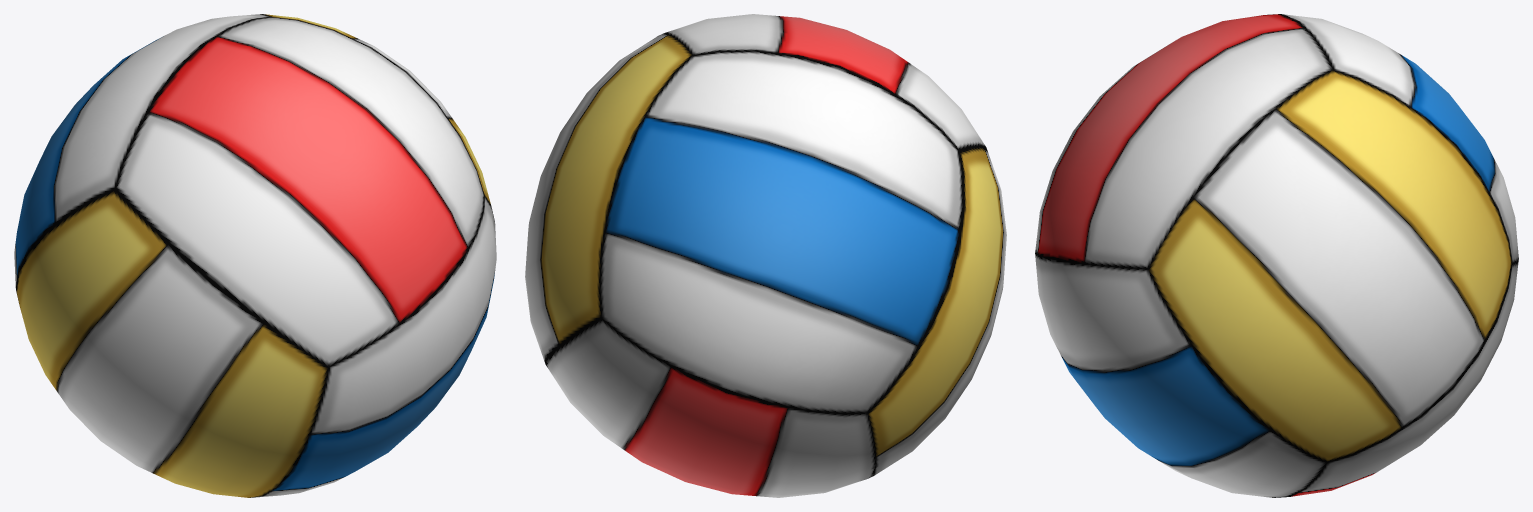
File: volleyball.FBX
The picture shows the model from 3 angles, left to right: view 1: azimuth 30°, elevation 25°; view 2: azimuth 150°, elevation 25°; view 3: azimuth 270°, elevation 25°; orthographic projection.
Parts seen in each view (by area): view 1: volleyball; view 2: volleyball; view 3: volleyball.
Boxes of the visible parts, x1,y1,x2,y2 form: volleyball: (14,14,496,497); volleyball: (525,14,1006,497); volleyball: (1035,14,1518,497).
Size of the model in its own units: 30.08 by 30.14 by 30.23.
